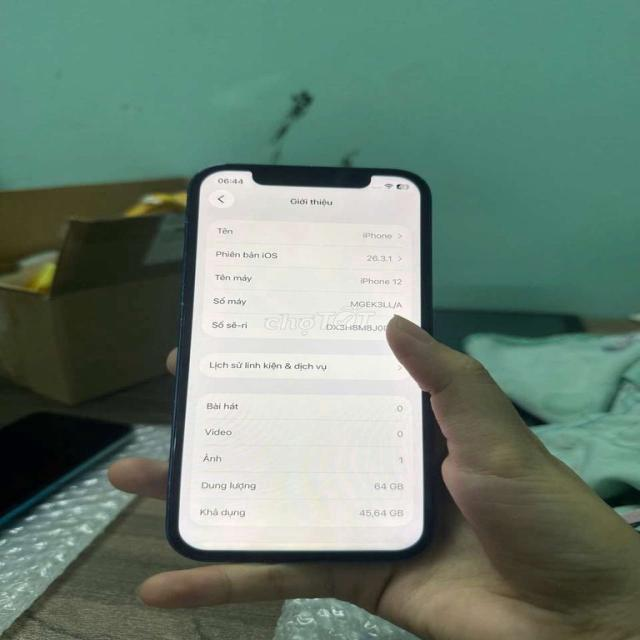gen_12_13: (165, 158, 459, 570)
